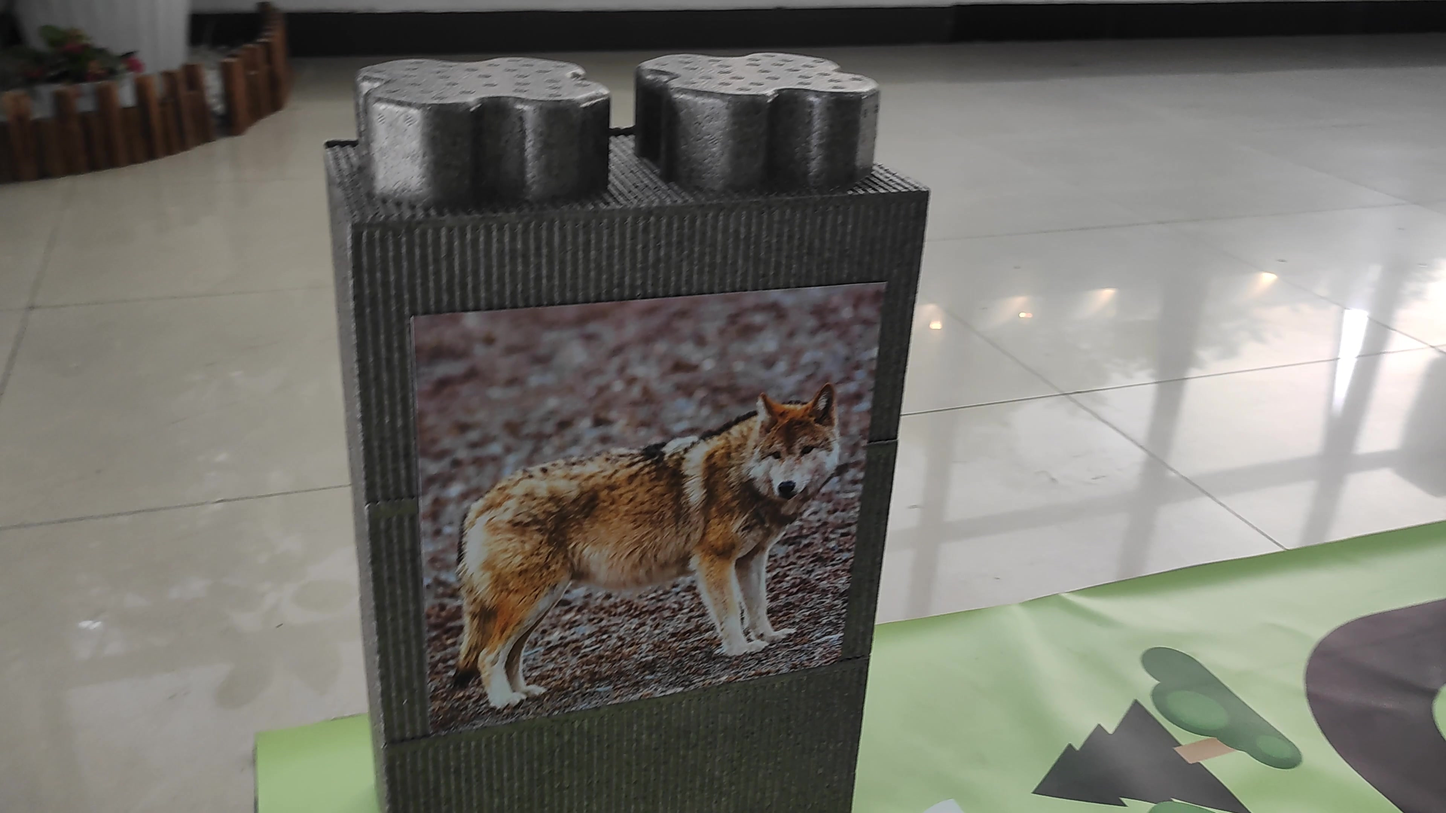wolf: (423, 331, 837, 705)
